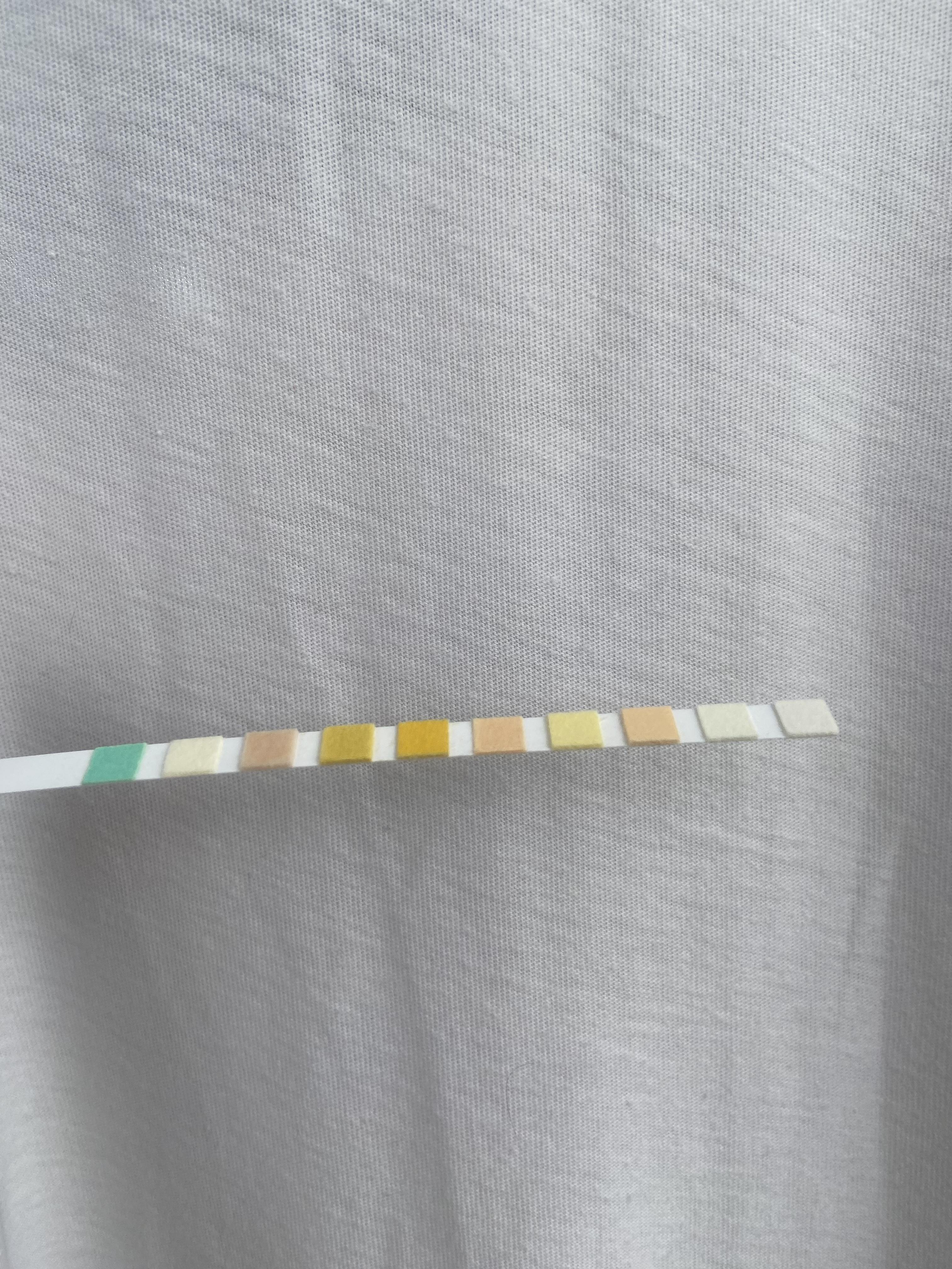Bilirubin: (173, 741, 213, 770)
Blood: (398, 722, 448, 754)
Glucose: (95, 748, 134, 778)
Ketone: (246, 733, 291, 766)
Leukocytes: (787, 701, 824, 732)
Nitrite: (708, 704, 745, 736)
Protein: (554, 712, 597, 744)
SpGravity: (325, 728, 371, 758)
Urobilinogen: (629, 708, 671, 741)
pH: (473, 719, 522, 750)
strip: (9, 699, 839, 791)
